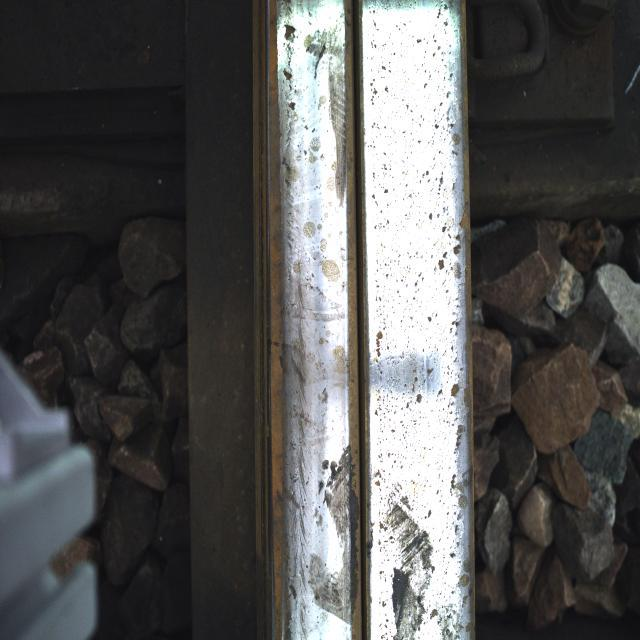scar: (268, 0, 348, 229), (281, 421, 362, 640), (374, 475, 471, 640)
